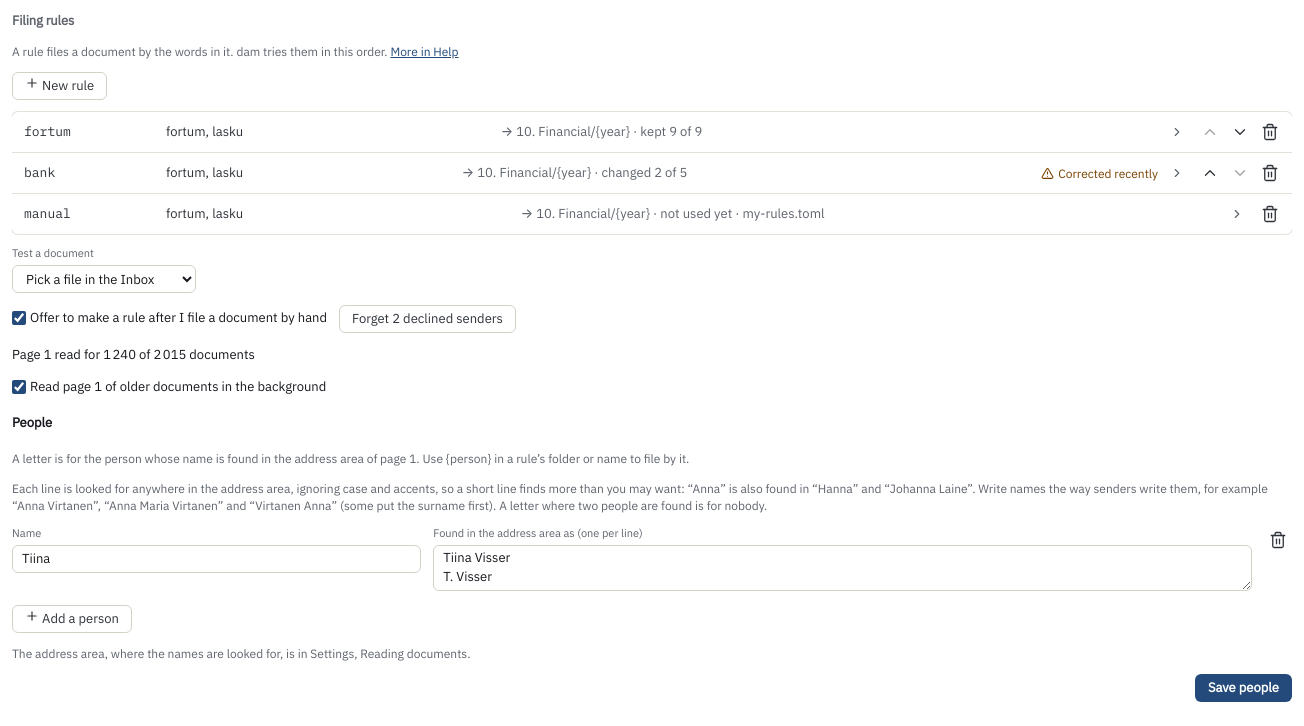
Scenario: FilingRules › tests a document against the rules
The image size is (1304, 726).
Select "bill.pdf" in the dropdown labelled "Test a document". click: {"x": 104, "y": 279}
box: 12,265 -> 196,293
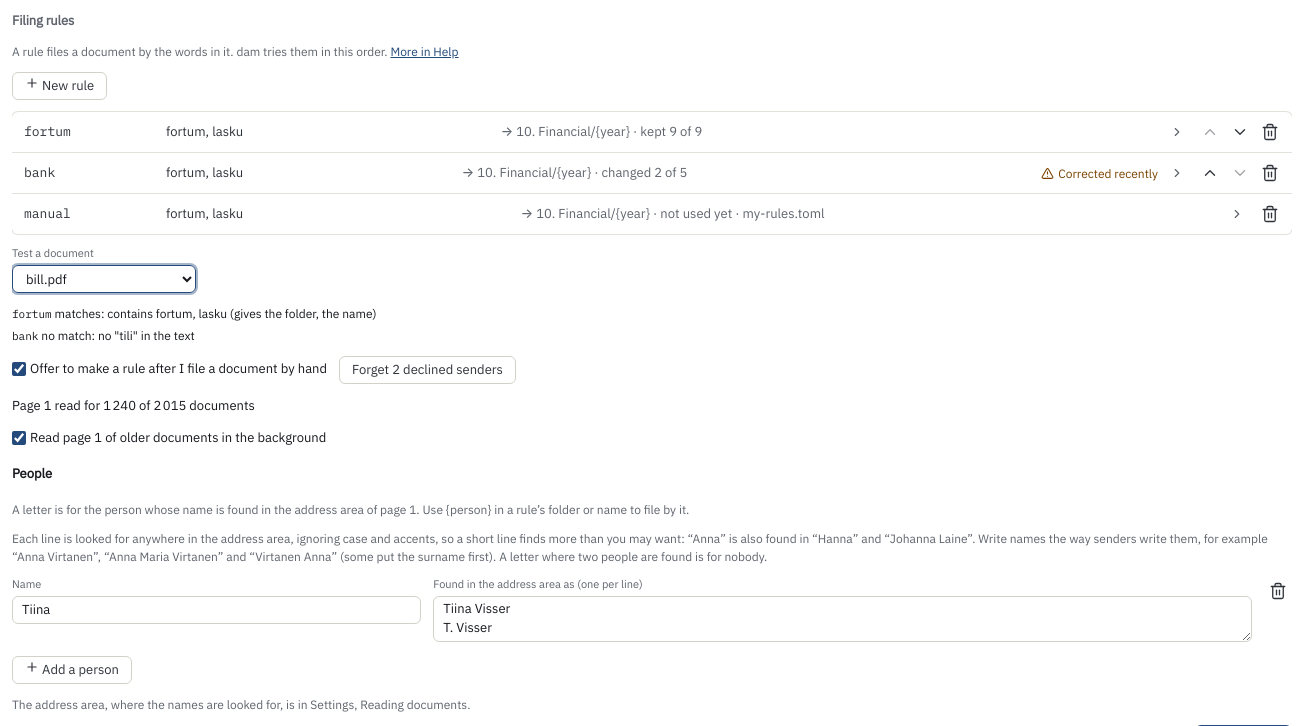
Now the 4th list item shows "fortum", box 12,307 -> 52,321
Now the 4th list item shows "matches", box 55,306 -> 101,321
Now the 4th list item shows "contains fortum, lasku", box 107,306 -> 227,321
